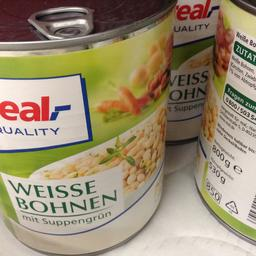beans: (0, 0, 177, 251), (194, 0, 254, 243)
